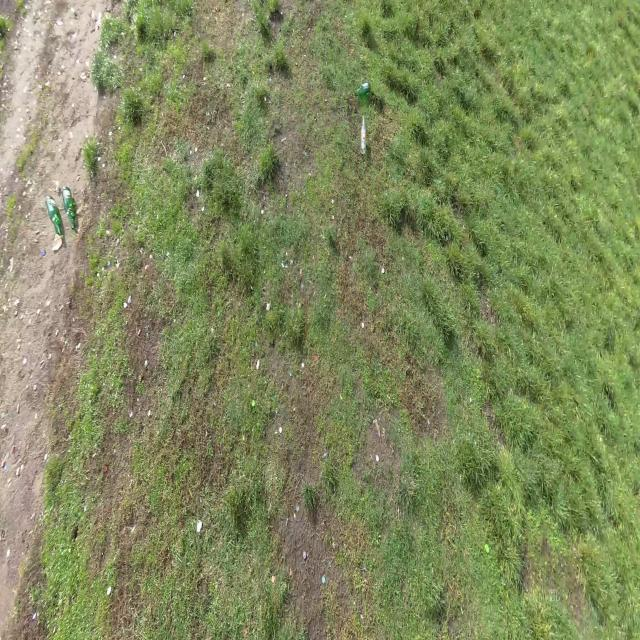rubbish: (45, 197, 63, 235), (63, 185, 75, 234), (360, 113, 368, 154), (354, 82, 370, 97)
